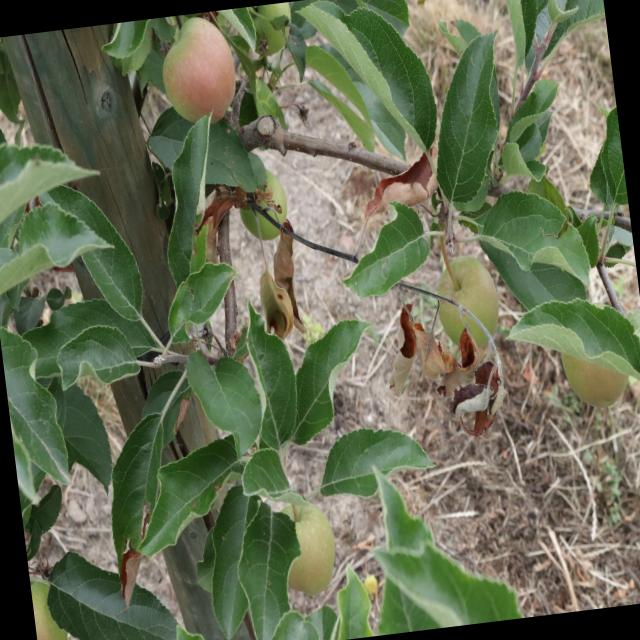-FireBlight-: (389, 293, 502, 435), (267, 219, 309, 334), (206, 186, 274, 224)
